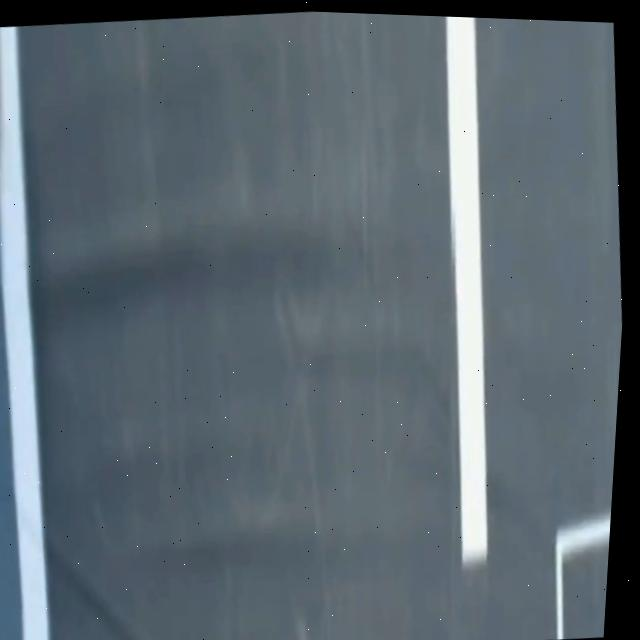center: (445, 16, 487, 566)
left: (0, 26, 48, 640)
